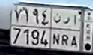1: (23, 7, 30, 46)
4: (40, 9, 48, 47)
7: (12, 8, 22, 46)
9: (31, 9, 40, 46)
A: (71, 14, 78, 48)
N: (52, 13, 61, 46)
R: (61, 15, 70, 48)
